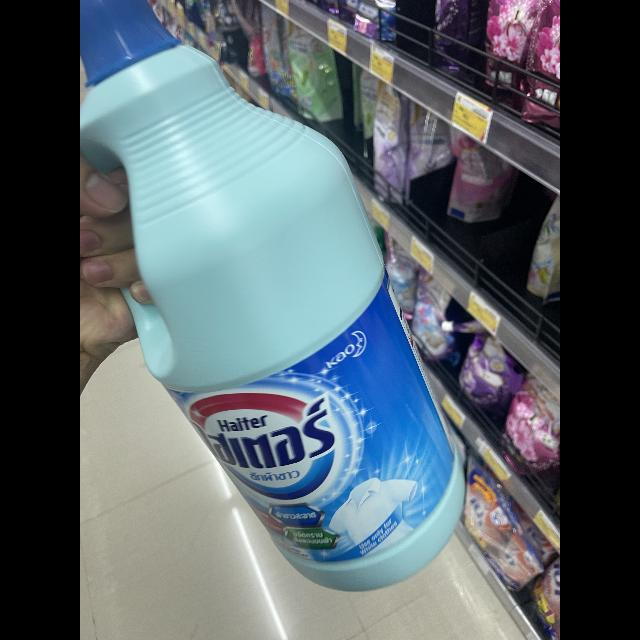chemical_plastic_bottle: (80, 1, 473, 596)
